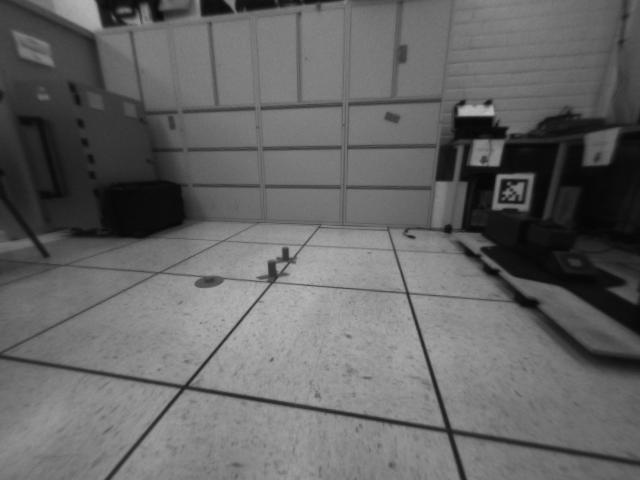X: (258, 259, 290, 284), (276, 247, 296, 267)
